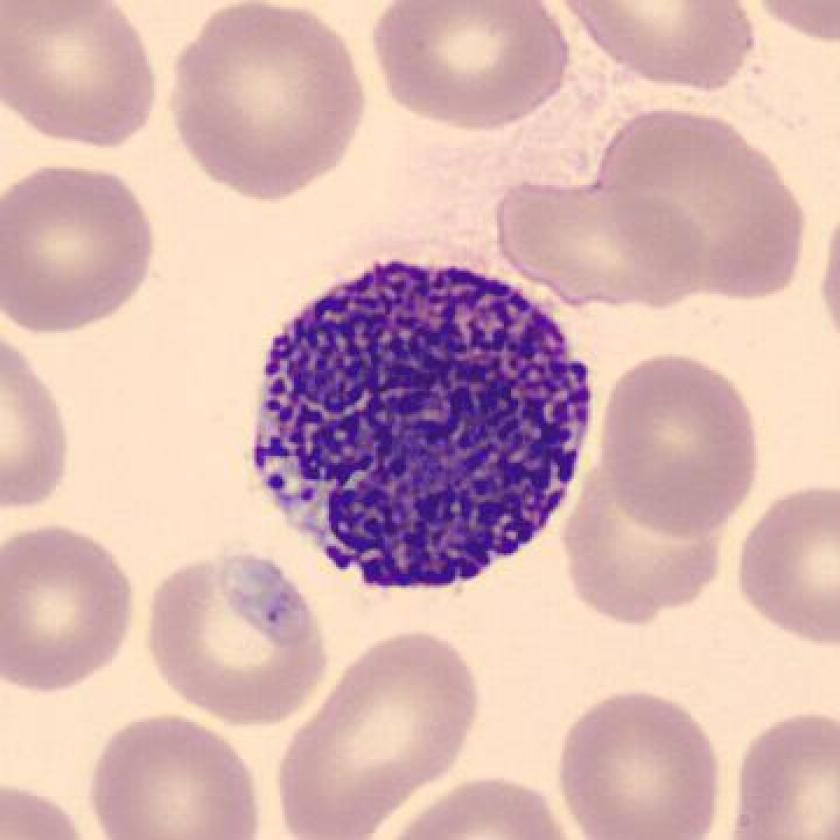basophil: (242, 249, 606, 600)
